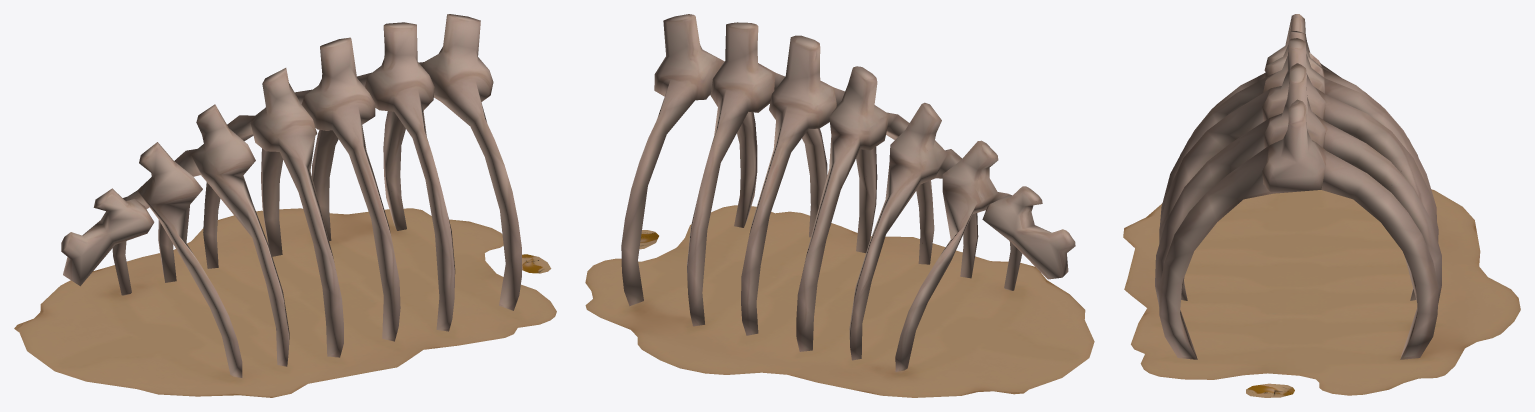
Rendered from map_ribcage_tripo.glb.
3 renders of one model, left to right at view 1: azimuth 30°, elevation 25°; view 2: azimuth 150°, elevation 25°; view 3: azimuth 270°, elevation 25°, orthographic. The views are drawn at different scales.
Visible parts, largest first — view 1: tripo_node_1496bd18-3210-4e03-9672-c9f679eea123; view 2: tripo_node_1496bd18-3210-4e03-9672-c9f679eea123; view 3: tripo_node_1496bd18-3210-4e03-9672-c9f679eea123.
Boxes of the visible parts, x1,y1,x2,y2 form: tripo_node_1496bd18-3210-4e03-9672-c9f679eea123: (14,14,556,397); tripo_node_1496bd18-3210-4e03-9672-c9f679eea123: (585,14,1094,397); tripo_node_1496bd18-3210-4e03-9672-c9f679eea123: (1123,14,1520,397).
Bounding box in the file's own units: 0.998 × 0.5254 × 0.709.
1 material, 1 textured.
